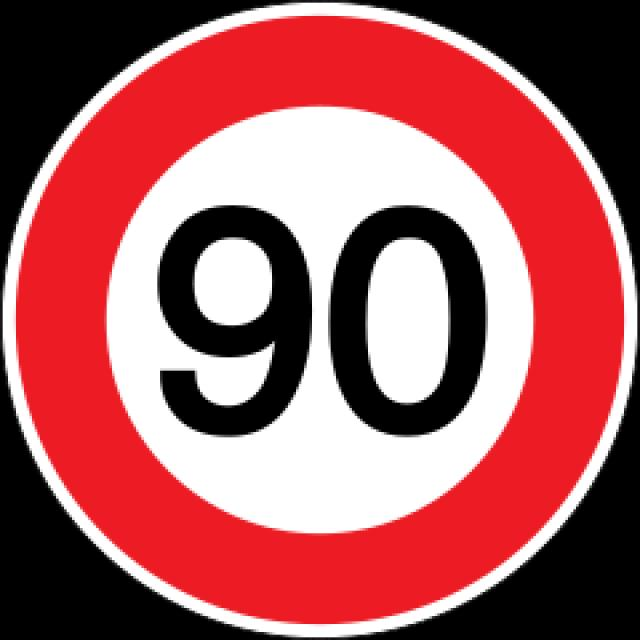Speed Limit -90-: (153, 200, 498, 442)
